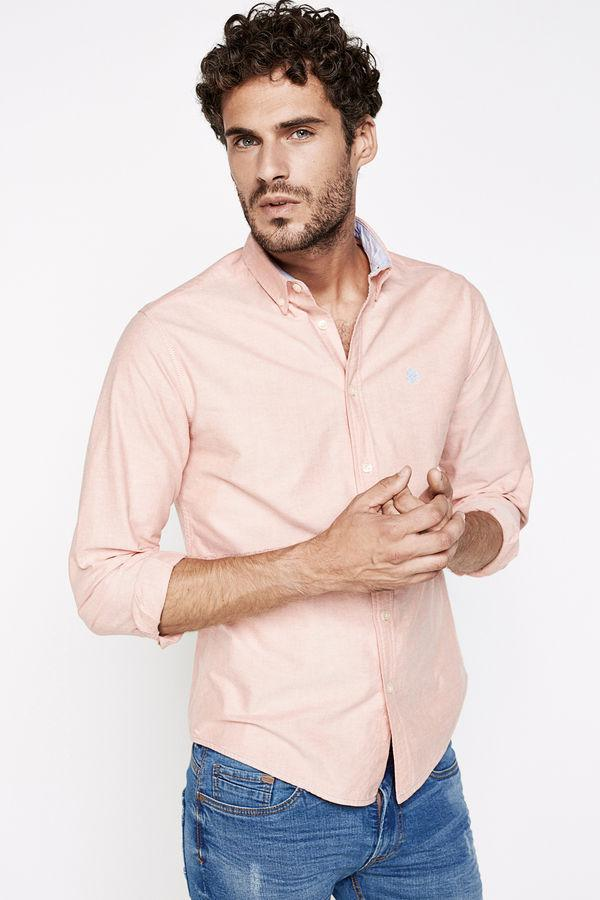teeshirt: (97, 229, 544, 804)
